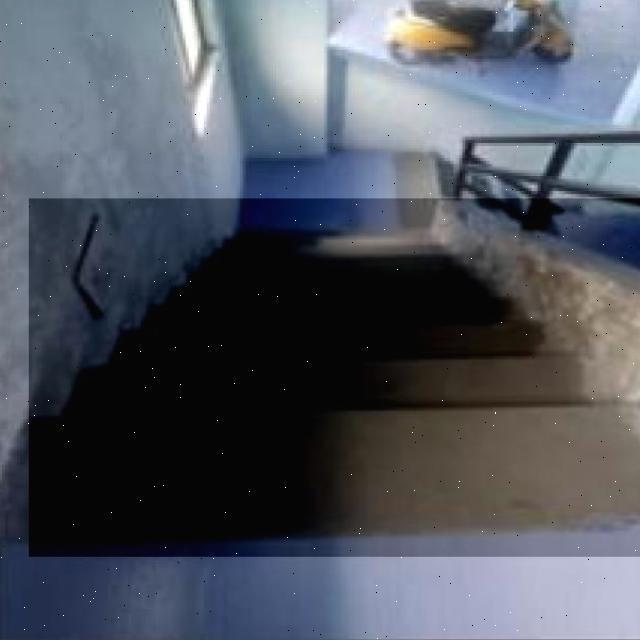stair: (29, 198, 640, 557)
